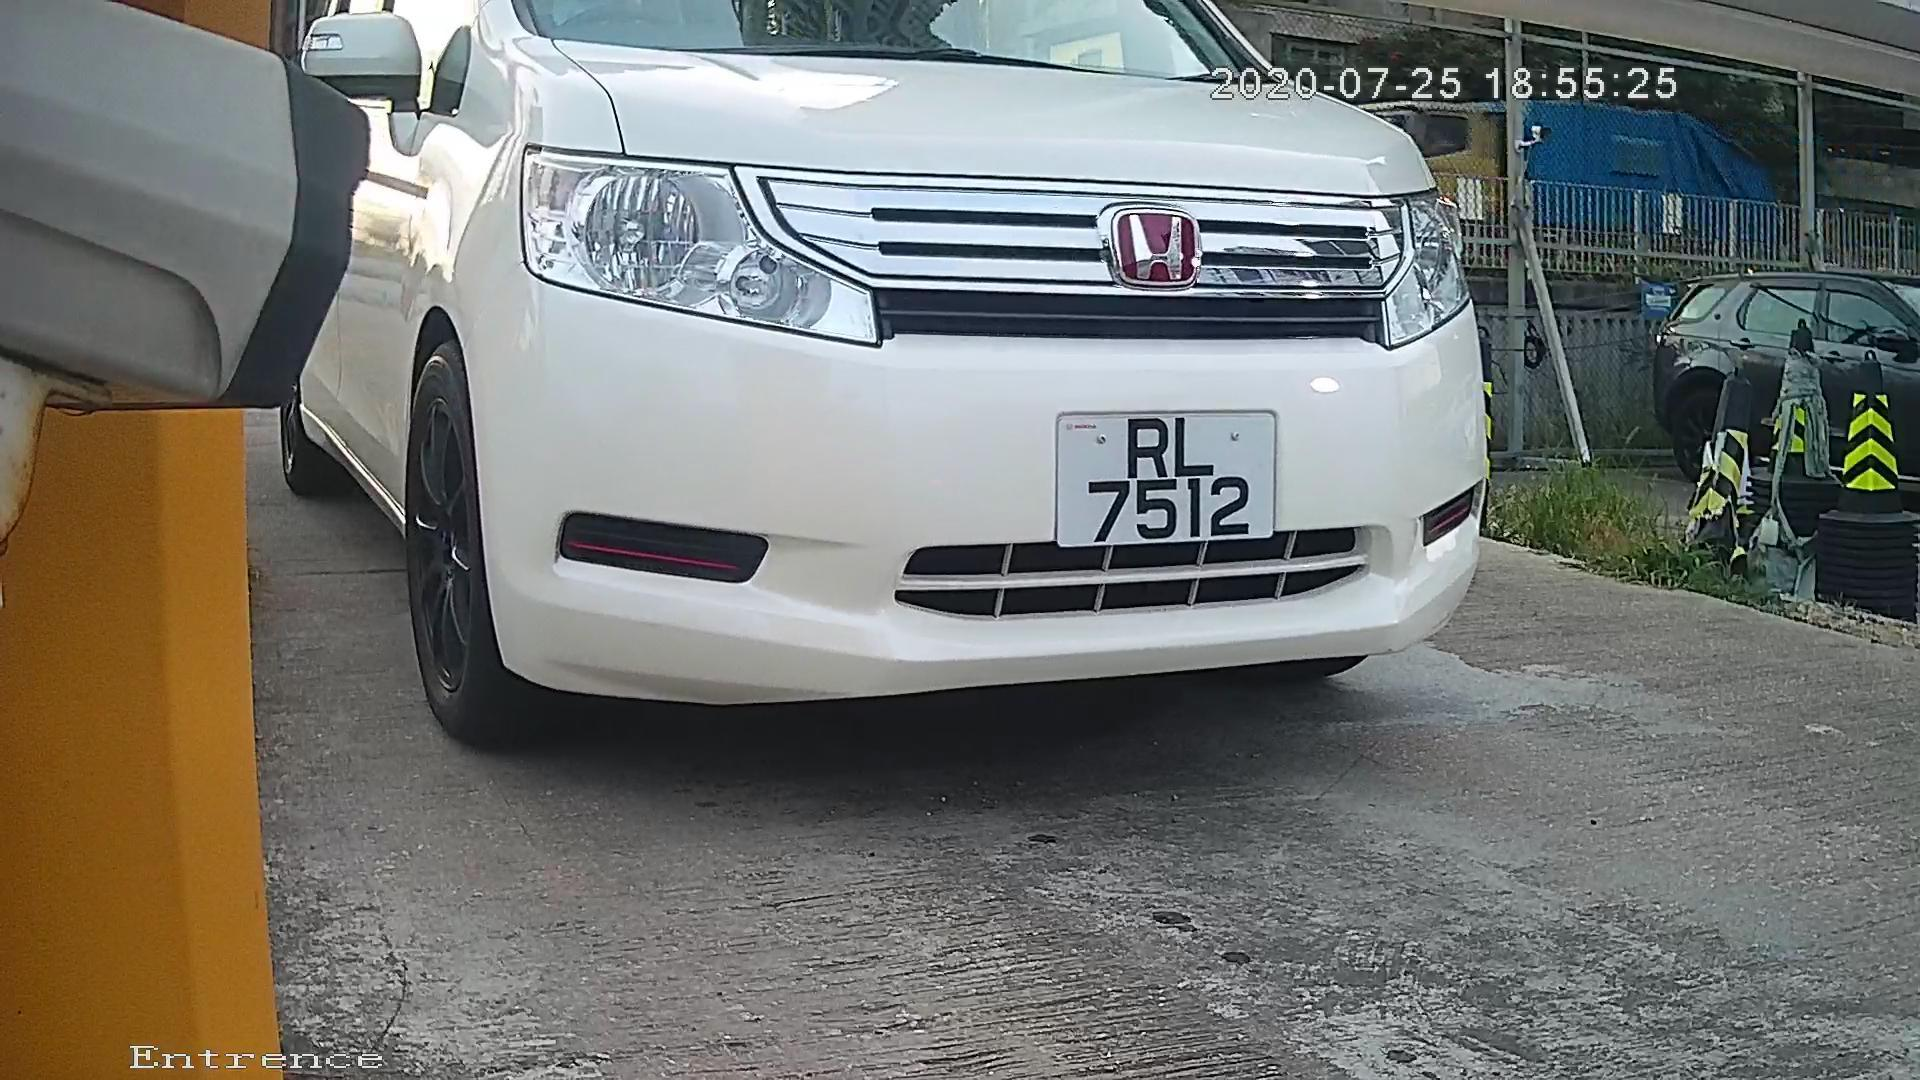privatecar: (313, 3, 1567, 795)
